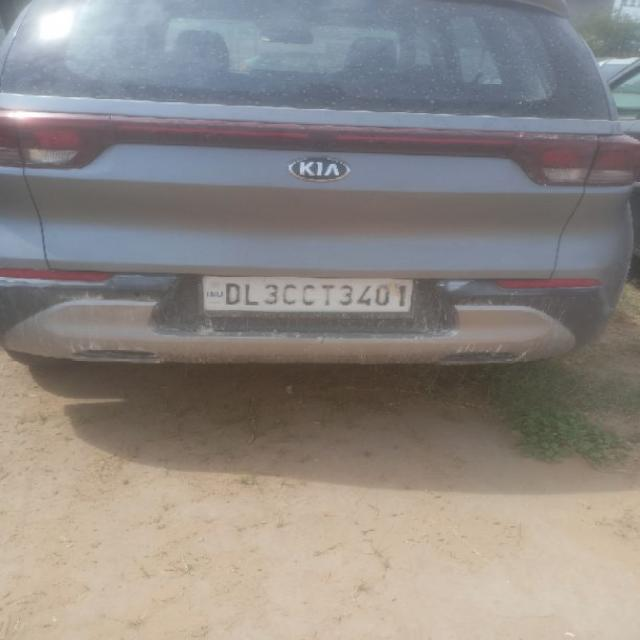license_plate: (199, 275, 416, 316)
